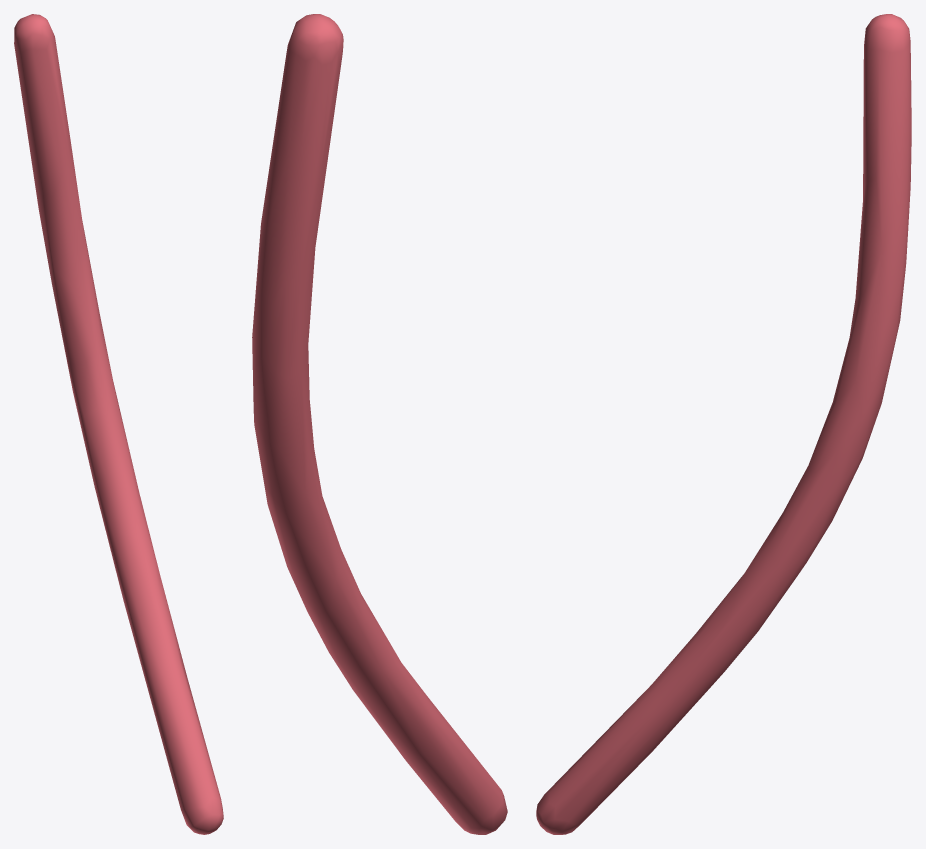
Rendered from fma85120_fj2316.glb.
3 views of the same model, side by side, from view 1: azimuth 30°, elevation 25°; view 2: azimuth 150°, elevation 25°; view 3: azimuth 270°, elevation 25° (orthographic). The views are drawn at different scales.
Parts seen in each view (by area): view 1: FMA85120_FJ2316; view 2: FMA85120_FJ2316; view 3: FMA85120_FJ2316.
Part boxes in pixels (box(x1,y1,x2,y2)): FMA85120_FJ2316: box(14, 14, 223, 834); FMA85120_FJ2316: box(252, 14, 507, 834); FMA85120_FJ2316: box(536, 14, 911, 834).
Size of the model in its own units: 0.00306 by 0.0276 by 0.0117.
